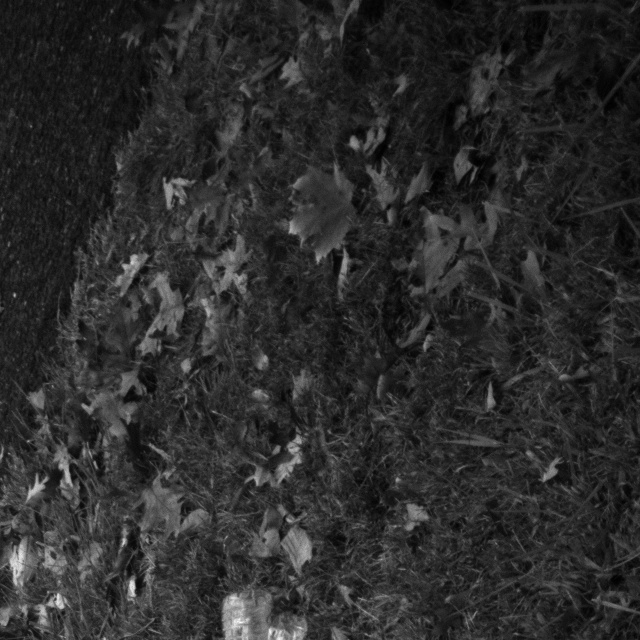bottle: (220, 588, 274, 640)
